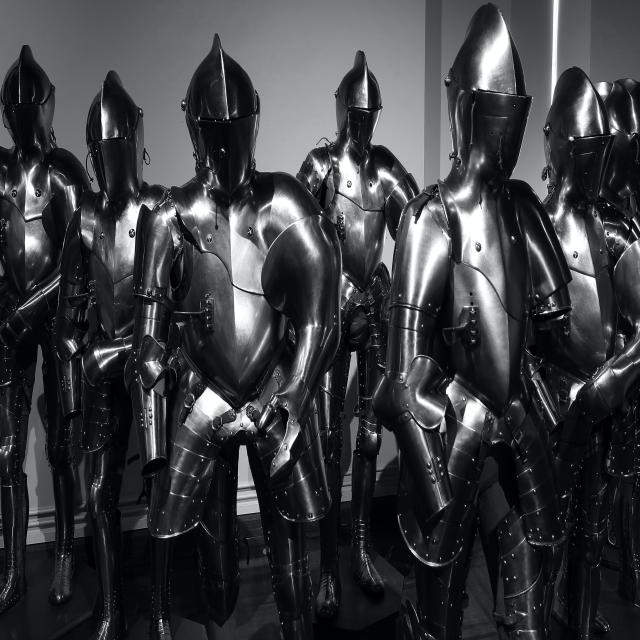Metal: (0, 0, 640, 635)
